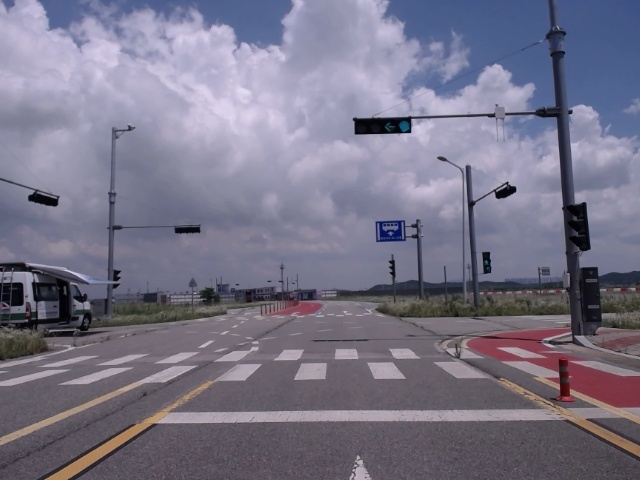all_green_4: (353, 119, 411, 132)
